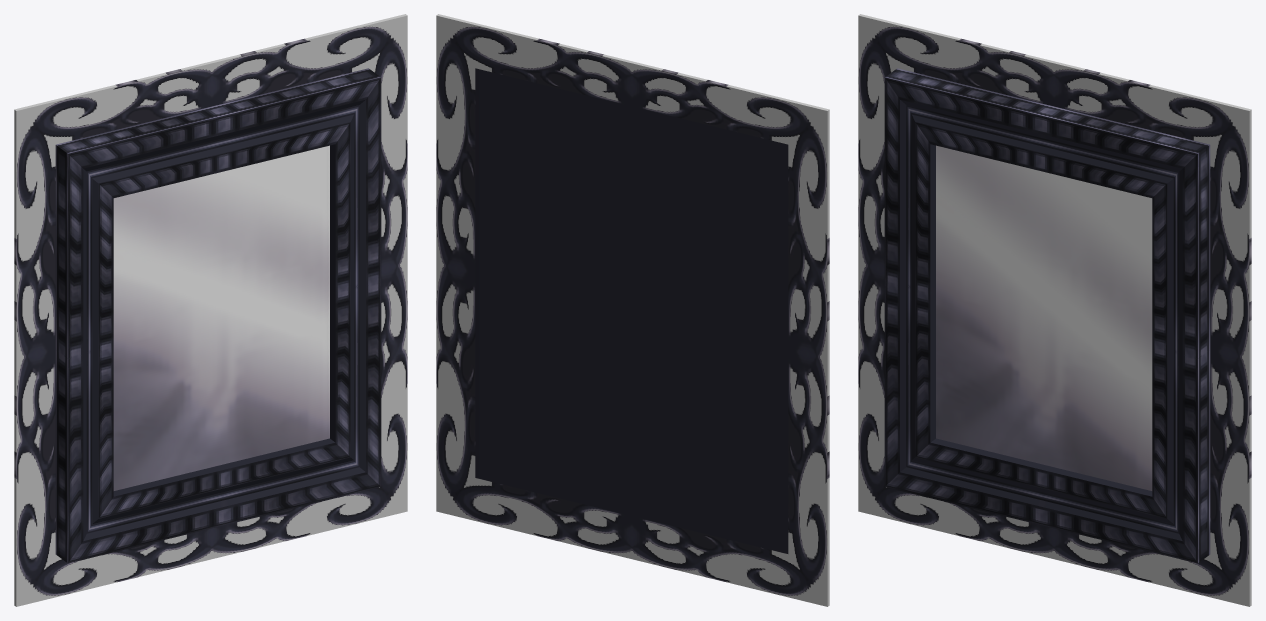
File: GothicMirror_HD.fbx
3 renders of one model, left to right at view 1: azimuth 30°, elevation 25°; view 2: azimuth 150°, elevation 25°; view 3: azimuth 330°, elevation 25°, orthographic.
Parts seen in each view (by area): view 1: GothicMirror; view 2: GothicMirror; view 3: GothicMirror.
Part boxes in pixels (x1,y1,x2,y2): GothicMirror: [14, 14, 407, 606]; GothicMirror: [436, 14, 829, 606]; GothicMirror: [858, 14, 1251, 606].
Bounding box in the file's own units: 0.64 × 0.7748 × 0.0417.
